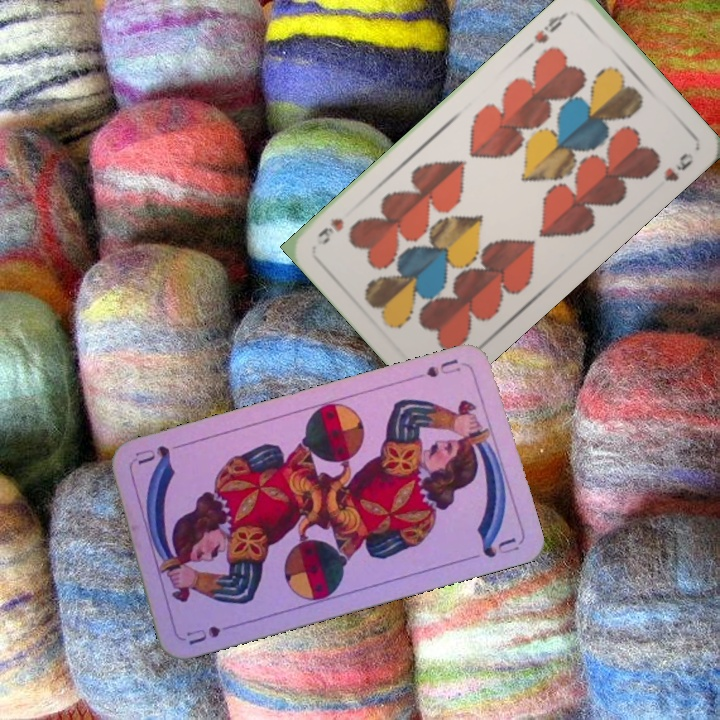H9: (523, 7, 571, 51)
SU: (182, 621, 241, 647), (422, 355, 464, 380)
